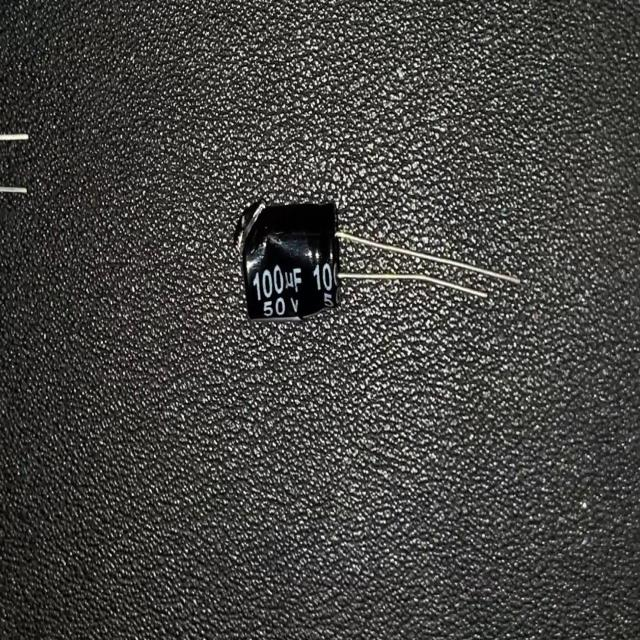capacitor: (230, 197, 522, 327)
cracked: (241, 233, 311, 287), (233, 202, 265, 257)
